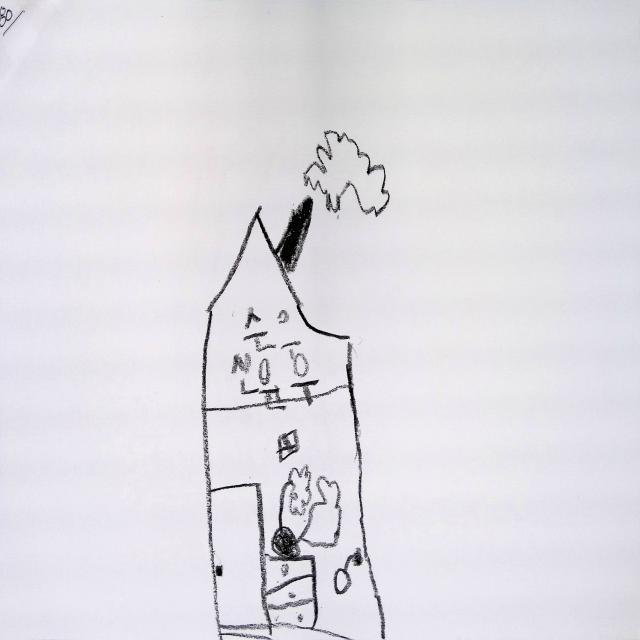chimney: (276, 197, 312, 272)
door: (208, 480, 276, 631)
house: (203, 198, 386, 640)
roof: (201, 208, 358, 415)
wall: (198, 390, 391, 640)
window: (272, 424, 302, 468)
